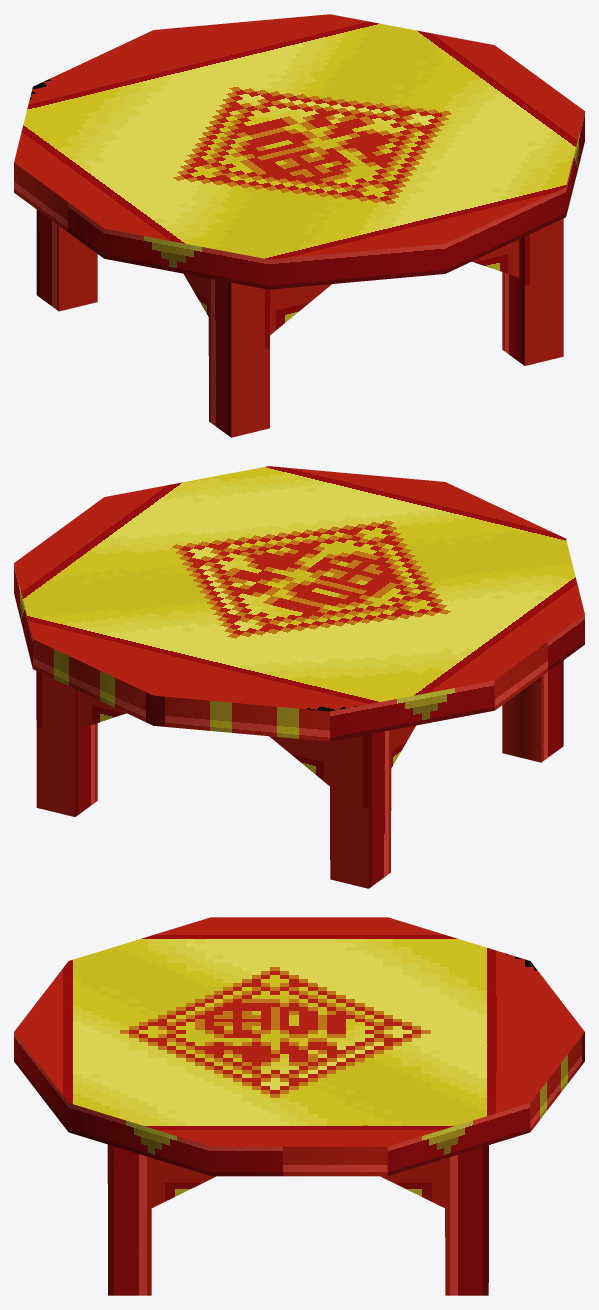
3 renders of one model, top to bottom at view 1: azimuth 30°, elevation 25°; view 2: azimuth 150°, elevation 25°; view 3: azimuth 270°, elevation 25°, orthographic. The views are drawn at different scales.
Visible parts, largest first — view 1: 3096IMRL07_05; view 2: 3096IMRL07_05; view 3: 3096IMRL07_05.
Boxes of the visible parts, bbox=[...] form: 3096IMRL07_05: bbox=[14, 14, 584, 437]; 3096IMRL07_05: bbox=[14, 466, 584, 888]; 3096IMRL07_05: bbox=[14, 917, 584, 1295].
Bounding box in the file's own units: 2 × 0.75 × 2.1.
Materials: 1 (1 with a texture image).
